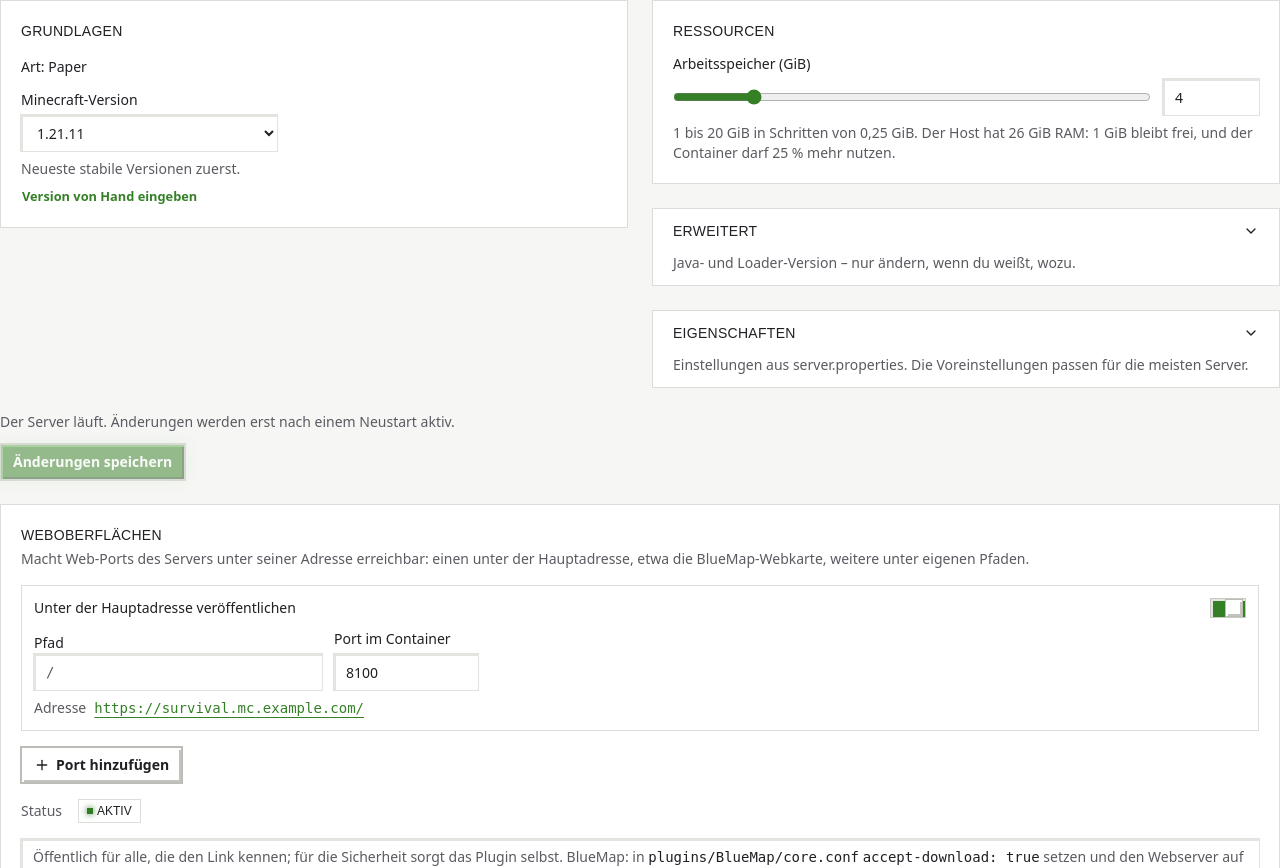
Test: ServerSettingsTab › drafts (issue #154) › keeps a dirty draft when the server changes elsewhere, compares, and keeps the own changes on top
This screenshot has width=1280, height=868.
Replace the text in the number field labelled "Arbeitsspeicher (GiB)" with "5": {"x": 1211, "y": 97} [1163,79,1259,115]
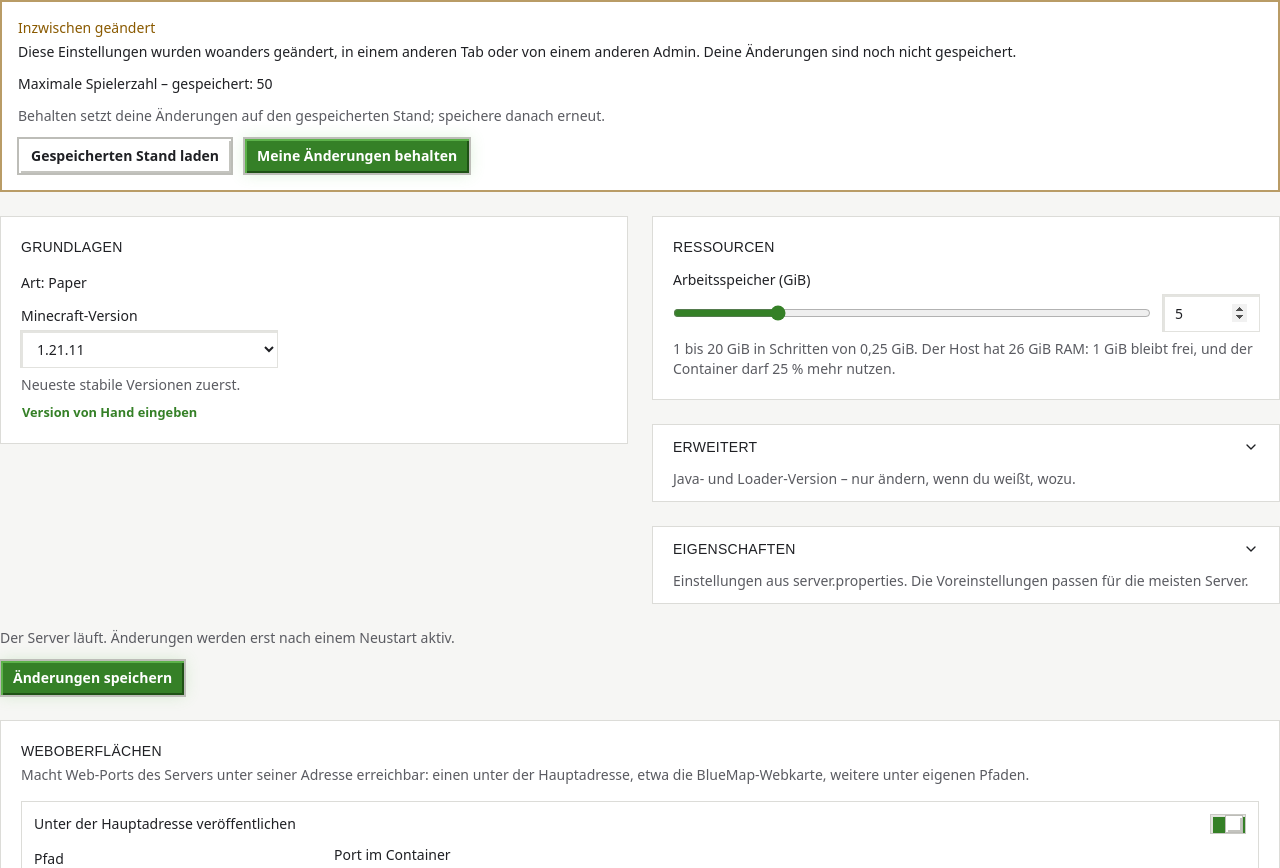
Result: the element "Inzwischen geändert" shows "Diese Einstellungen wurden woanders geändert" at [18,42,1016,61]
Result: the list named "Geänderte Einstellungen" reads "Maximale Spielerzahl – gespeichert: 50" at [18,74,273,93]
Click the button "Meine Änderungen behalten": {"x": 357, "y": 156} [244,138,470,174]
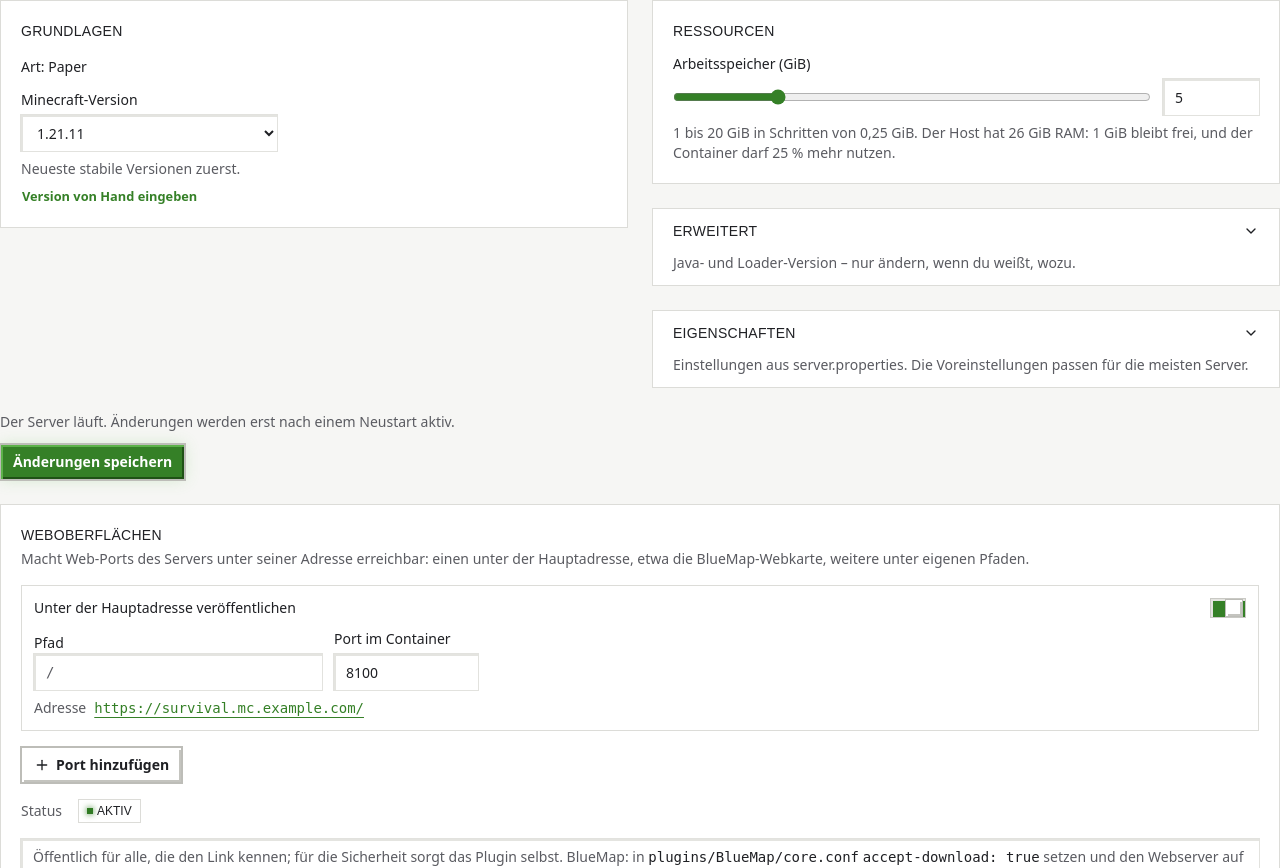
Result: the text "Inzwischen geändert" is gone
Result: the number field labelled "Arbeitsspeicher (GiB)" holds "5" at [1163,79,1259,115]
Click the button "Änderungen speichern": {"x": 93, "y": 462} [0,444,185,480]
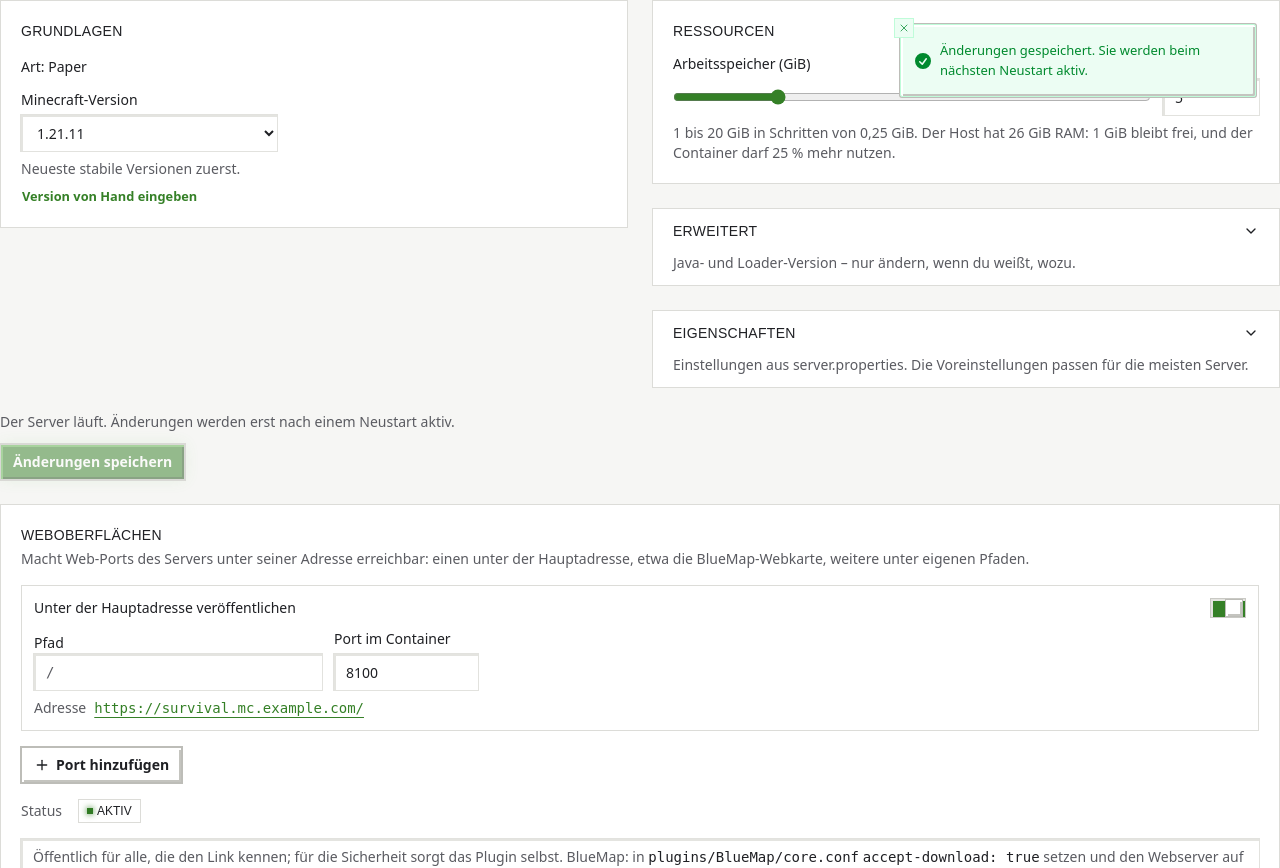
Result: the button "Änderungen speichern" is disabled at [0,444,185,480]
